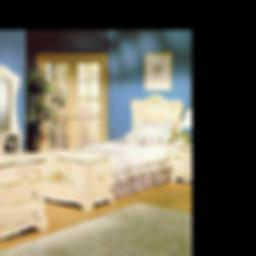Armario: (0, 163, 46, 242)
Puerta: (40, 58, 103, 142)
